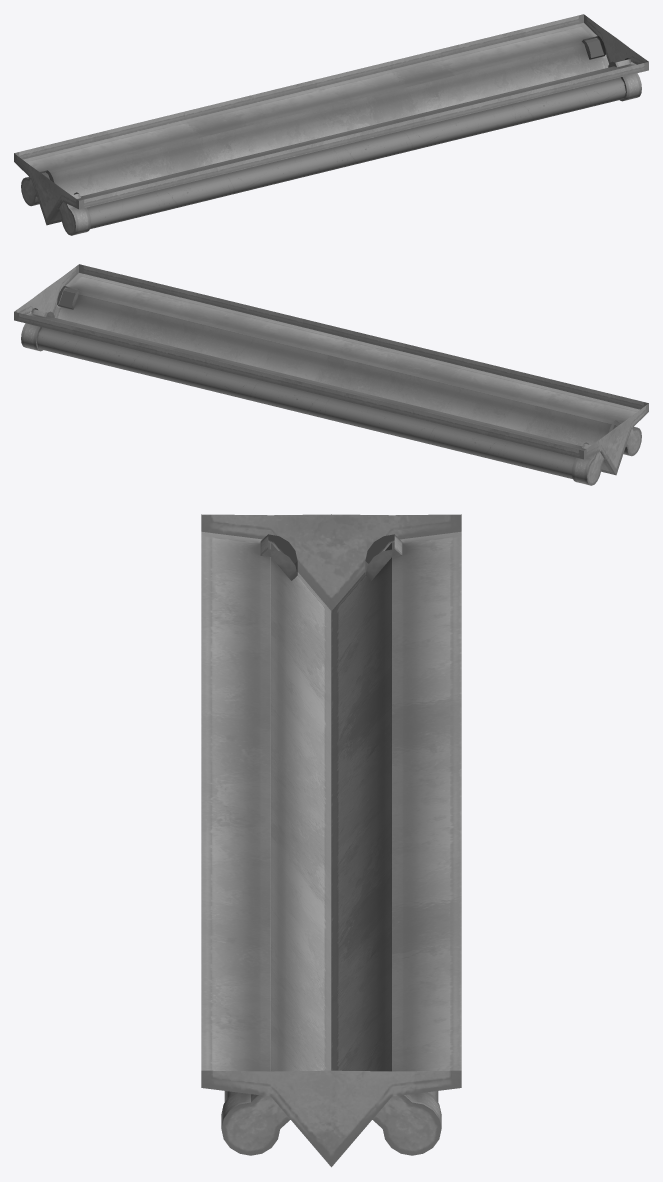
The model's file is Light_Fitting_v2.fbx.
3 views of the same model, one above another, from view 1: azimuth 30°, elevation 25°; view 2: azimuth 150°, elevation 25°; view 3: azimuth 270°, elevation 25° (orthographic). The views are drawn at different scales.
Visible parts, largest first — view 1: Light_Fitting_v2; view 2: Light_Fitting_v2; view 3: Light_Fitting_v2.
Boxes of the visible parts, x1,y1,x2,y2 form: Light_Fitting_v2: (14,14,648,235); Light_Fitting_v2: (14,264,648,485); Light_Fitting_v2: (201,514,461,1167).
Size of the model in its own units: 112 by 9.13 by 22.25.
